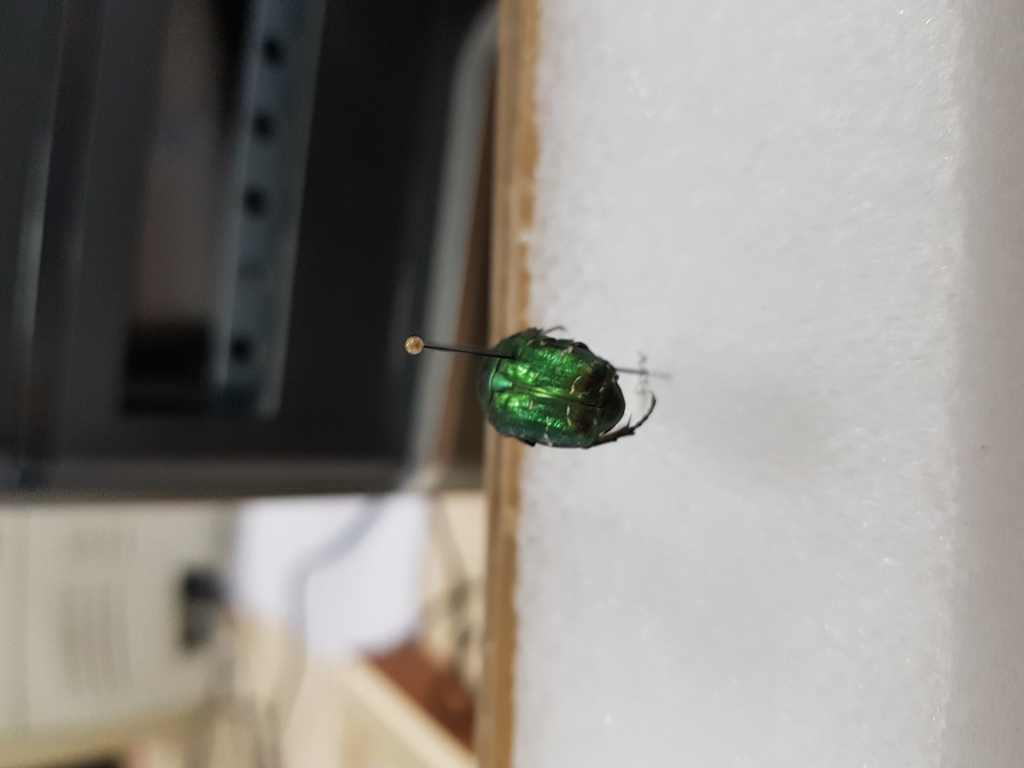Cetonia_kemali: (471, 325, 662, 463)
